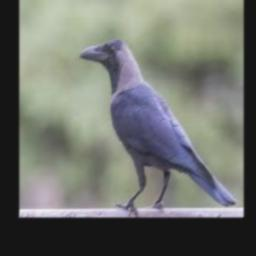Crow: (81, 39, 238, 215)
